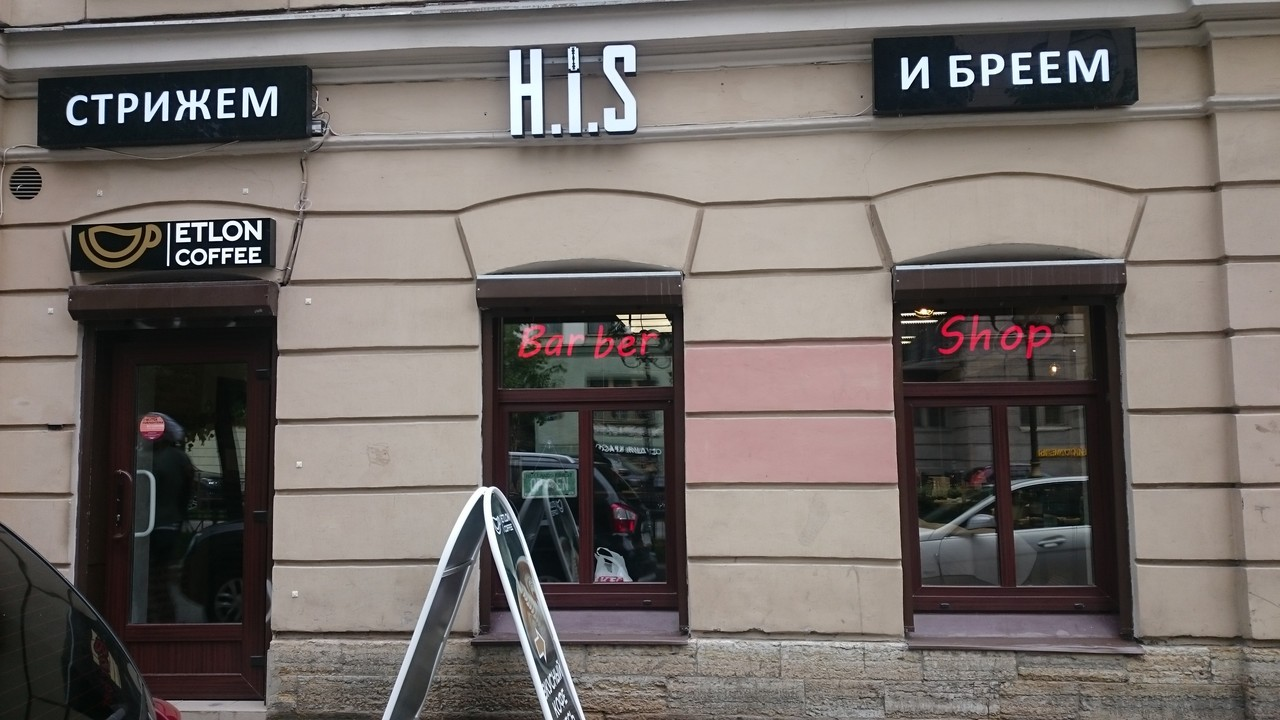door: (118, 340, 267, 701)
signboard: (35, 62, 318, 145), (868, 28, 1139, 112), (507, 40, 642, 139), (68, 220, 277, 268)
window: (891, 271, 1118, 615), (482, 286, 687, 612)
